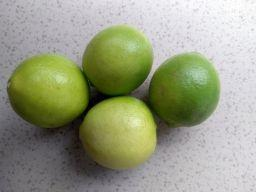lemon: (5, 53, 93, 129), (77, 93, 159, 172), (147, 49, 222, 128), (80, 23, 155, 97)
